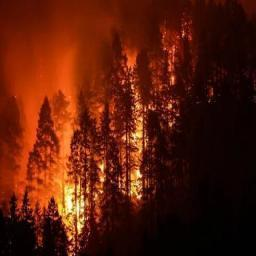Heavy smoke: (1, 2, 113, 144)
Large fire: (12, 78, 163, 253)
Medium fire: (115, 16, 193, 128)
